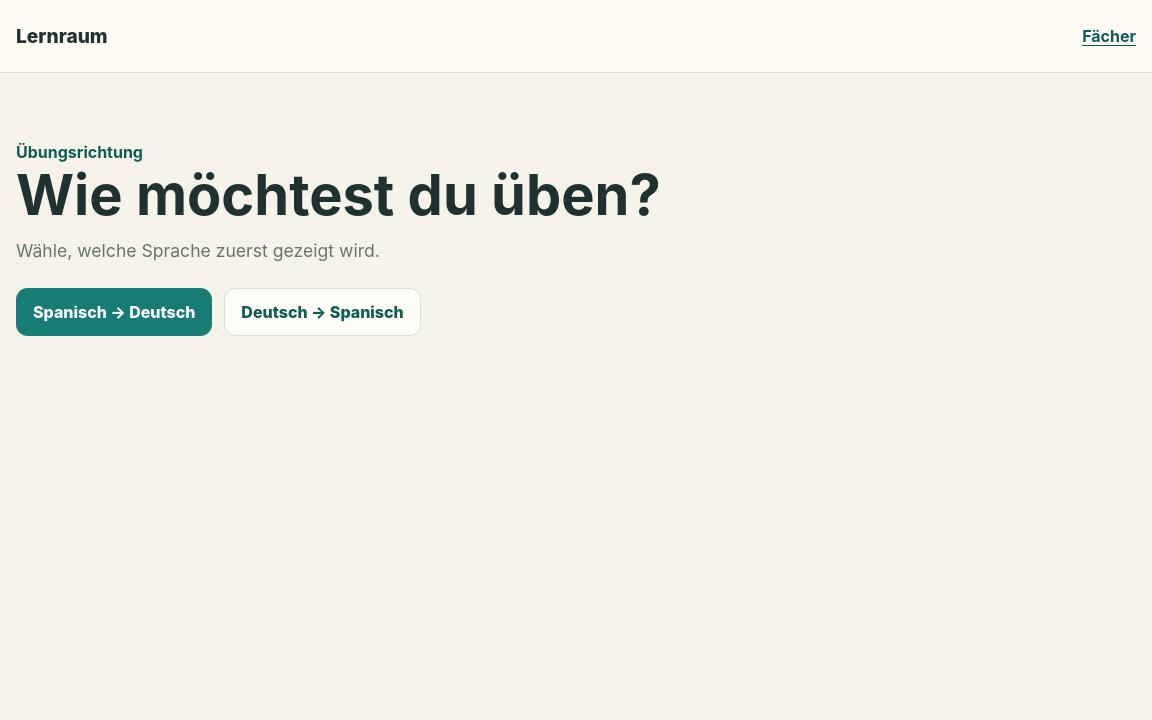
Test: LearnMode › lets the student select a translation direction before starting
Click the button "Spanisch → Deutsch" at {"x": 114, "y": 312}, box [16,288,212,336]
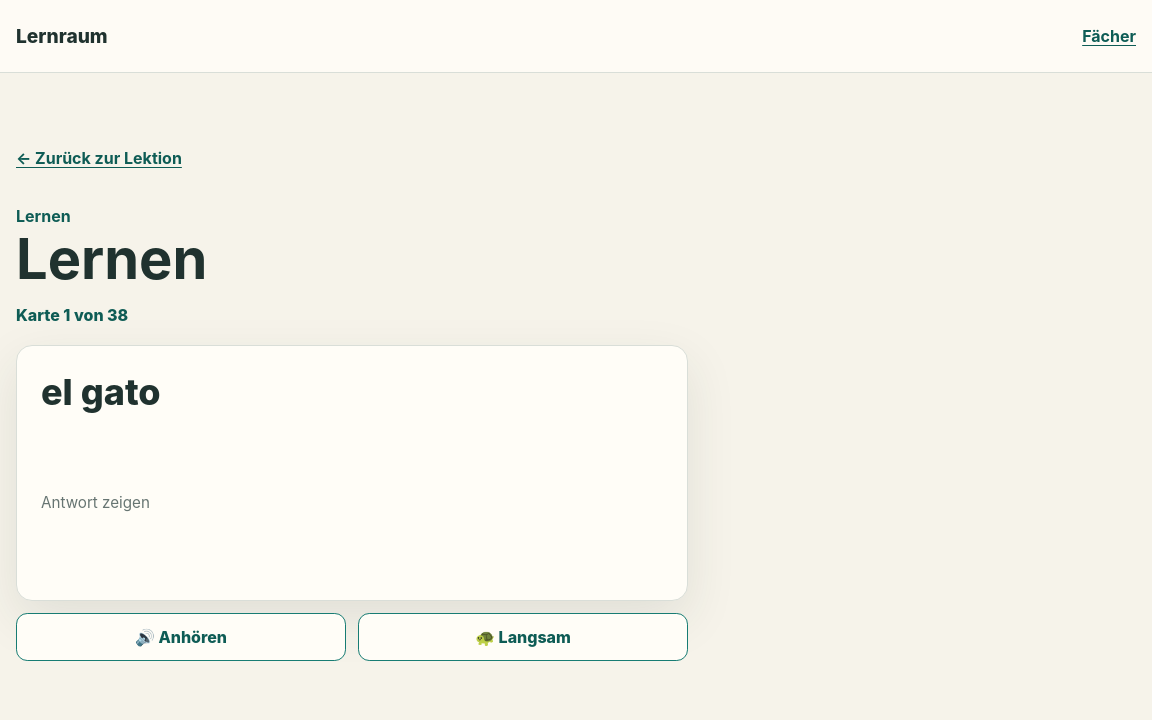
Expected: the button "el gato Antwort zeigen" is shown, [16,345,688,601]
Expected: the text "Karte 1 von 38" is shown, [16,305,128,325]
